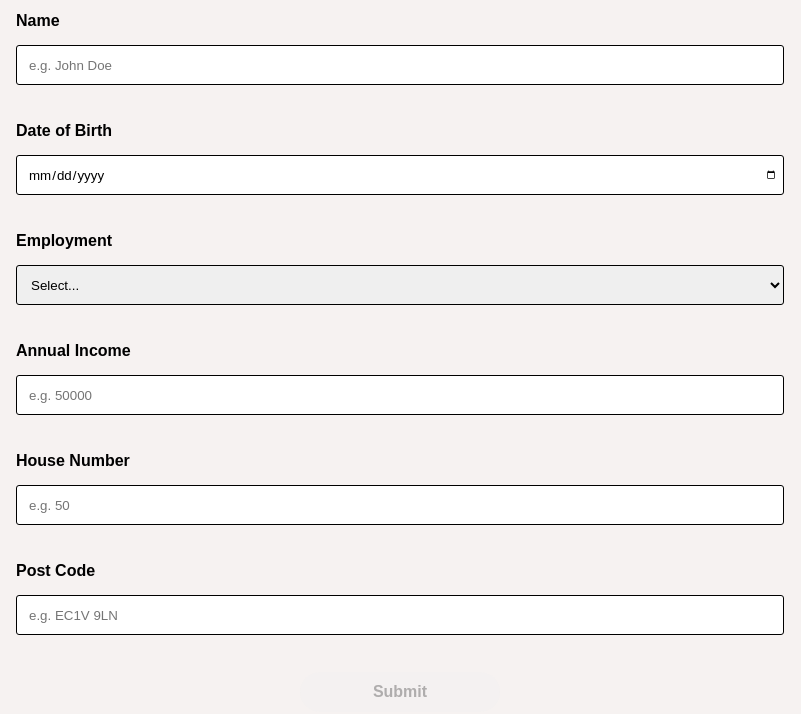
Scenario: CustomerForm › when a value is changed and doesn't pass validation › shows an error message
In the field named "name": (400, 65) [16,45,784,85], type "S"
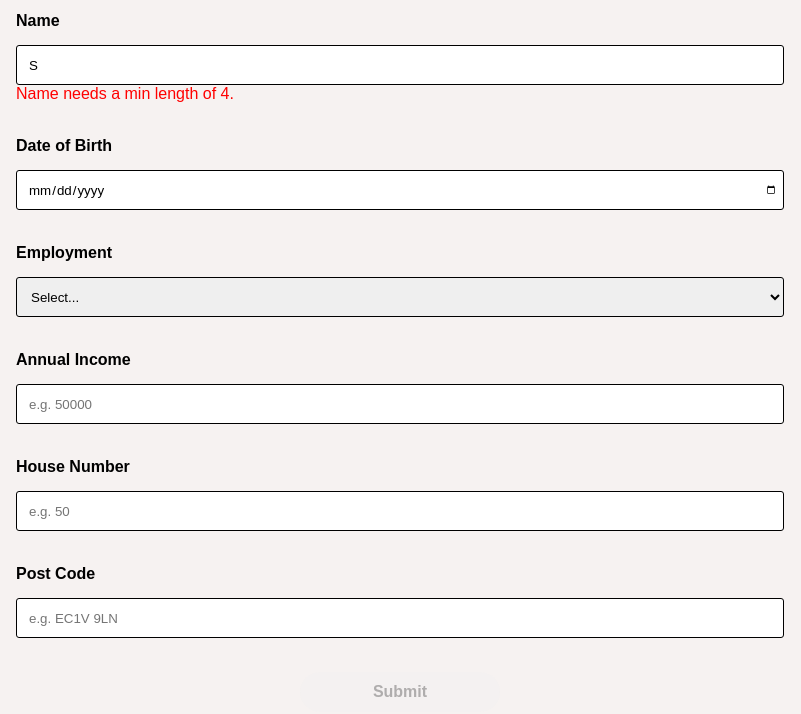
Check: the text "Name needs a min length of 4." is shown, box [16,85,234,102]
